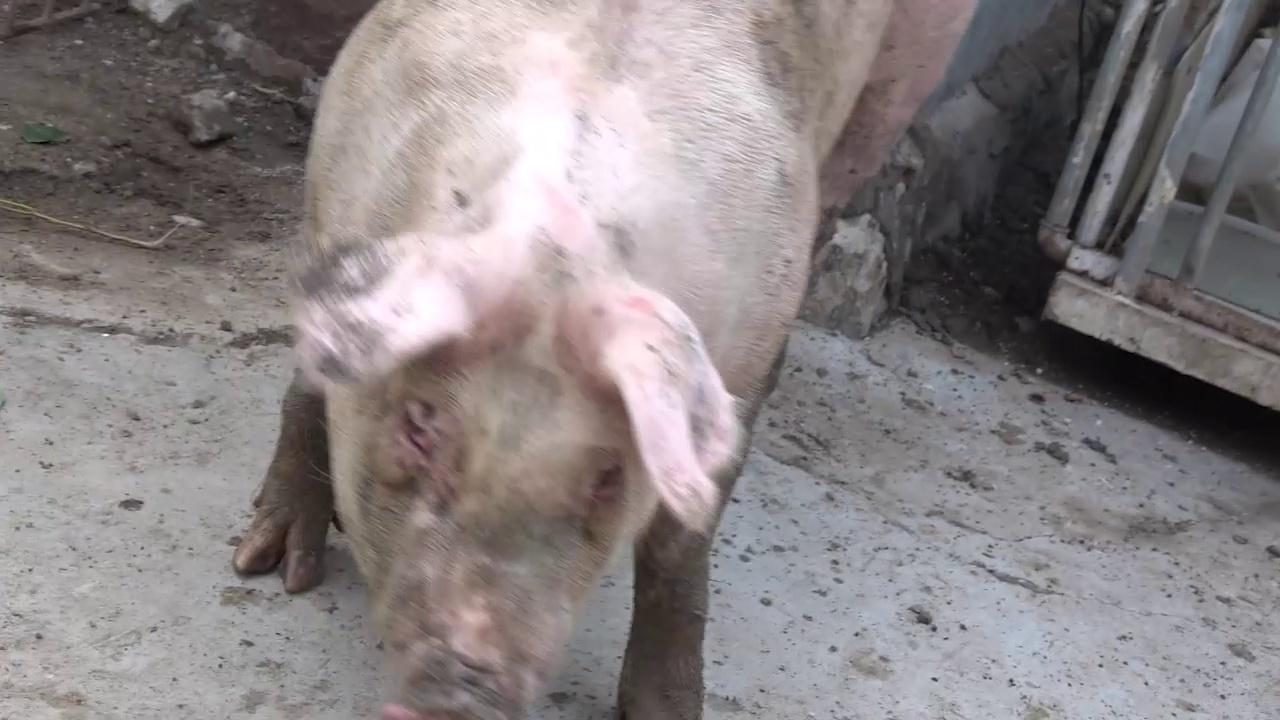Face: (280, 250, 758, 720)
